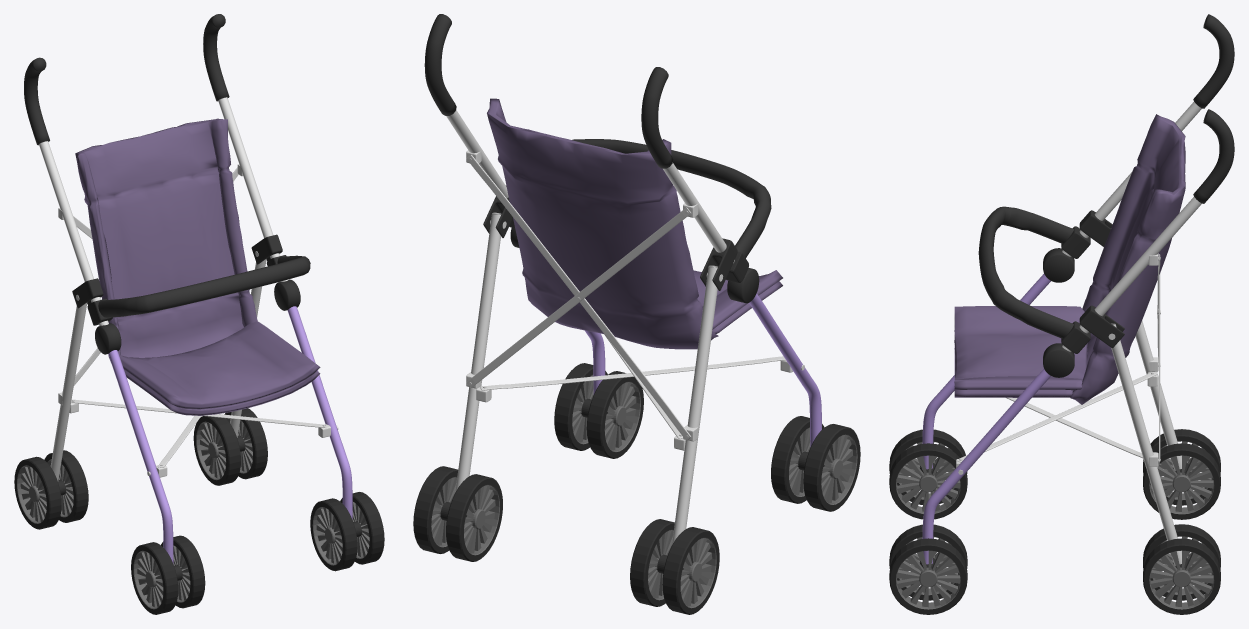
The model's file is baby_stroller.glb.
3 views of the same model, side by side, from view 1: azimuth 30°, elevation 25°; view 2: azimuth 150°, elevation 25°; view 3: azimuth 270°, elevation 25° (orthographic). The views are drawn at different scales.
Visible parts, largest first — view 1: Seat, Seat.001, WheelFrontLeft, WheelFrontRight, WheelRearRight, WheelRearLeft, BezierCurve.005, FrameUpper, FrameFrontRight, FrameFrontLeft, FrameRearRight, Seat.002 (+5 smaller); view 2: Seat, WheelRearLeft, WheelRearRight, WheelFrontRight, WheelFrontLeft, BezierCurve.005, FrameRearRight, FrameRearLeft, Cube.008, Cube.009, FrameUpper, FrameFrontRight (+7 smaller); view 3: Seat, Seat.001, WheelFrontLeft, WheelRearLeft, WheelFrontRight, WheelRearRight, BezierCurve.005, FrameUpper, FrameFrontLeft, FrameRearLeft, Cylinder.001, Cube (+8 smaller).
Part boxes in pixels (x1,y1,x2,y2): Seat: (75,118,257,361); Seat.001: (119,321,320,409); WheelFrontLeft: (310,492,384,571); WheelFrontRight: (131,535,205,614); WheelRearRight: (14,450,88,529); WheelRearLeft: (193,408,267,485); BezierCurve.005: (98,255,310,317); FrameUpper: (39,97,287,325); FrameFrontRight: (108,350,173,563); FrameFrontLeft: (287,306,352,519); FrameRearRight: (50,302,87,481); Seat.002: (124,369,320,415); Seat: (487,98,718,349); WheelRearLeft: (413,466,502,561); WheelRearRight: (630,519,719,614); WheelFrontRight: (771,416,860,511); WheelFrontLeft: (554,363,643,458); BezierCurve.005: (572,139,771,258); FrameRearRight: (672,265,717,544); FrameRearLeft: (455,212,501,492); Cube.008: (466,155,690,440); Cube.009: (466,207,691,387); FrameUpper: (446,110,734,263); FrameFrontRight: (749,293,821,447); Seat: (1070,114,1185,404); Seat.001: (954,306,1087,390); WheelFrontLeft: (889,524,967,614); WheelRearLeft: (1143,524,1220,614); WheelFrontRight: (889,429,967,519); WheelRearRight: (1143,429,1220,519); BezierCurve.005: (978,206,1073,338); FrameUpper: (1062,102,1201,352); FrameFrontLeft: (922,369,1050,564); FrameRearLeft: (1111,323,1181,565); Cylinder.001: (1043,248,1074,377); Cube: (1079,210,1124,347).
Bounding box in the file's own units: 0.5078 × 1.01 × 0.6388.
